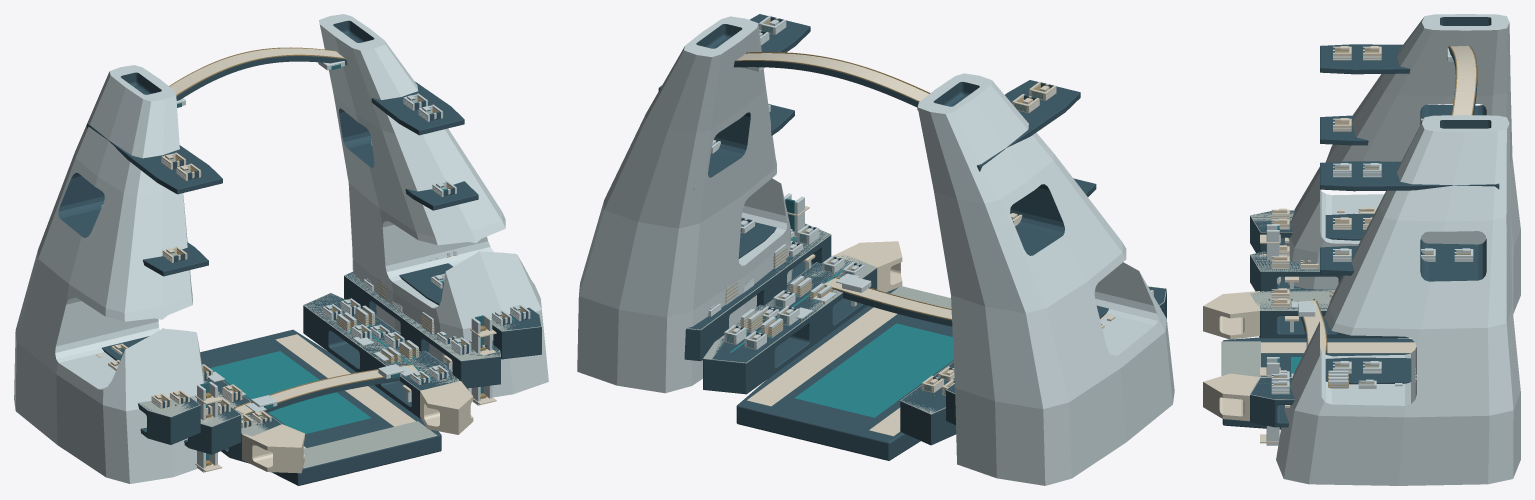
Rendered from R15_REVISION_1.glb.
The picture shows the model from 3 angles, left to right: view 1: azimuth 30°, elevation 25°; view 2: azimuth 150°, elevation 25°; view 3: azimuth 270°, elevation 25°; orthographic projection. The views are drawn at different scales.
Visible parts, largest first — view 1: WEST_GARDEN_CONTINUOUS_INHABITED_ESCARPMENT, EAST_WATER_CONTINUOUS_INHABITED_ESCARPMENT, LOWER_CIVIC_GROUND, Central_basin, EAST_WATER_T0_inhabited_landform, EAST_WATER_T1_inhabited_landform, Southern_civic_forecourt, WEST_GARDEN_PUBLIC_PROW, EAST_WATER_PUBLIC_PROW, Lower_public_promenade.001, WEST_GARDEN_civic_sky_court.002, EAST_WATER_civic_sky_court.002 (+13 smaller); view 2: WEST_GARDEN_CONTINUOUS_INHABITED_ESCARPMENT, EAST_WATER_CONTINUOUS_INHABITED_ESCARPMENT, LOWER_CIVIC_GROUND, Central_basin, EAST_WATER_T0_inhabited_landform, EAST_WATER_T1_inhabited_landform, Lower_public_promenade.001, WEST_GARDEN_T0_inhabited_landform, EAST_WATER_PUBLIC_PROW, UPPER_CIVIC_VESSEL_public_street, WEST_GARDEN_civic_sky_court.002, UPPER_CIVIC_VESSEL_inhabited_hull (+6 smaller); view 3: EAST_WATER_CONTINUOUS_INHABITED_ESCARPMENT, WEST_GARDEN_CONTINUOUS_INHABITED_ESCARPMENT, WEST_GARDEN_PUBLIC_PROW, EAST_WATER_civic_sky_court.002, EAST_WATER_PUBLIC_PROW, WEST_GARDEN_civic_sky_court.002, WEST_GARDEN_T0_inhabited_landform, LOWER_CIVIC_GROUND, Lower_public_promenade, EAST_WATER_civic_sky_court, EAST_WATER_civic_sky_court.001, EAST_WATER_T2_inhabited_landform (+11 smaller).
Boxes of the visible parts, x1,y1,x2,y2 form: WEST_GARDEN_CONTINUOUS_INHABITED_ESCARPMENT: (14, 65, 204, 483); EAST_WATER_CONTINUOUS_INHABITED_ESCARPMENT: (319, 14, 548, 397); LOWER_CIVIC_GROUND: (200, 329, 441, 485); Central_basin: (210, 351, 371, 434); EAST_WATER_T0_inhabited_landform: (303, 293, 457, 418); EAST_WATER_T1_inhabited_landform: (344, 272, 500, 388); Southern_civic_forecourt: (303, 421, 437, 468); WEST_GARDEN_PUBLIC_PROW: (242, 424, 304, 473); EAST_WATER_PUBLIC_PROW: (420, 381, 473, 434); Lower_public_promenade.001: (275, 334, 415, 426); WEST_GARDEN_civic_sky_court.002: (87, 123, 222, 194); EAST_WATER_civic_sky_court.002: (371, 81, 464, 135); WEST_GARDEN_CONTINUOUS_INHABITED_ESCARPMENT: (917, 73, 1174, 485); EAST_WATER_CONTINUOUS_INHABITED_ESCARPMENT: (577, 16, 792, 393); LOWER_CIVIC_GROUND: (736, 287, 953, 460); Central_basin: (794, 323, 953, 417); EAST_WATER_T0_inhabited_landform: (703, 256, 876, 394); EAST_WATER_T1_inhabited_landform: (684, 224, 831, 361); Lower_public_promenade.001: (747, 307, 896, 406); WEST_GARDEN_T0_inhabited_landform: (900, 362, 956, 445); EAST_WATER_PUBLIC_PROW: (833, 241, 902, 292); UPPER_CIVIC_VESSEL_public_street: (736, 53, 928, 101); WEST_GARDEN_civic_sky_court.002: (977, 80, 1080, 171); UPPER_CIVIC_VESSEL_inhabited_hull: (734, 61, 918, 107); EAST_WATER_CONTINUOUS_INHABITED_ESCARPMENT: (1276, 115, 1520, 485); WEST_GARDEN_CONTINUOUS_INHABITED_ESCARPMENT: (1284, 14, 1520, 313); WEST_GARDEN_PUBLIC_PROW: (1203, 291, 1259, 339); EAST_WATER_civic_sky_court.002: (1320, 161, 1499, 191); EAST_WATER_PUBLIC_PROW: (1203, 373, 1259, 421); WEST_GARDEN_civic_sky_court.002: (1320, 44, 1410, 74); WEST_GARDEN_T0_inhabited_landform: (1259, 289, 1409, 338); LOWER_CIVIC_GROUND: (1222, 337, 1414, 429); Lower_public_promenade: (1261, 342, 1416, 353); EAST_WATER_civic_sky_court: (1325, 357, 1411, 384); EAST_WATER_civic_sky_court.001: (1320, 246, 1478, 275); EAST_WATER_T2_inhabited_landform: (1250, 378, 1294, 427).
Bounding box in the file's own units: 2740 × 1884 × 1700.
